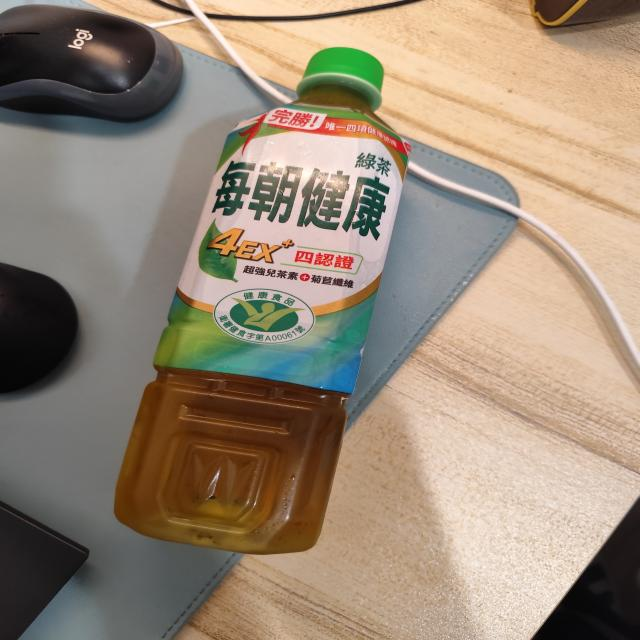MeiChou_GreenTea: (99, 32, 435, 579)
